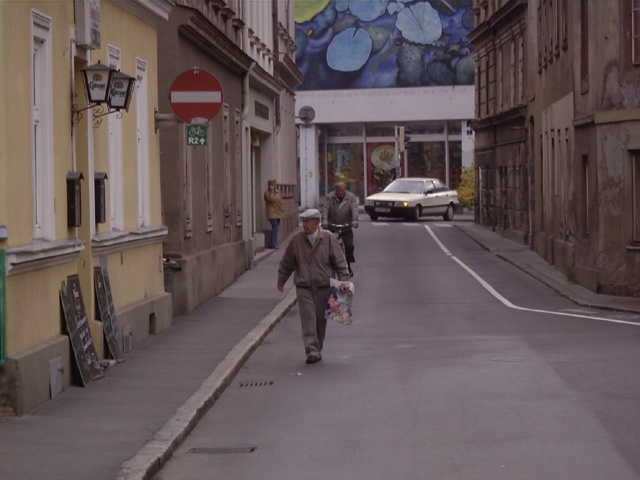person: (276, 203, 348, 362)
